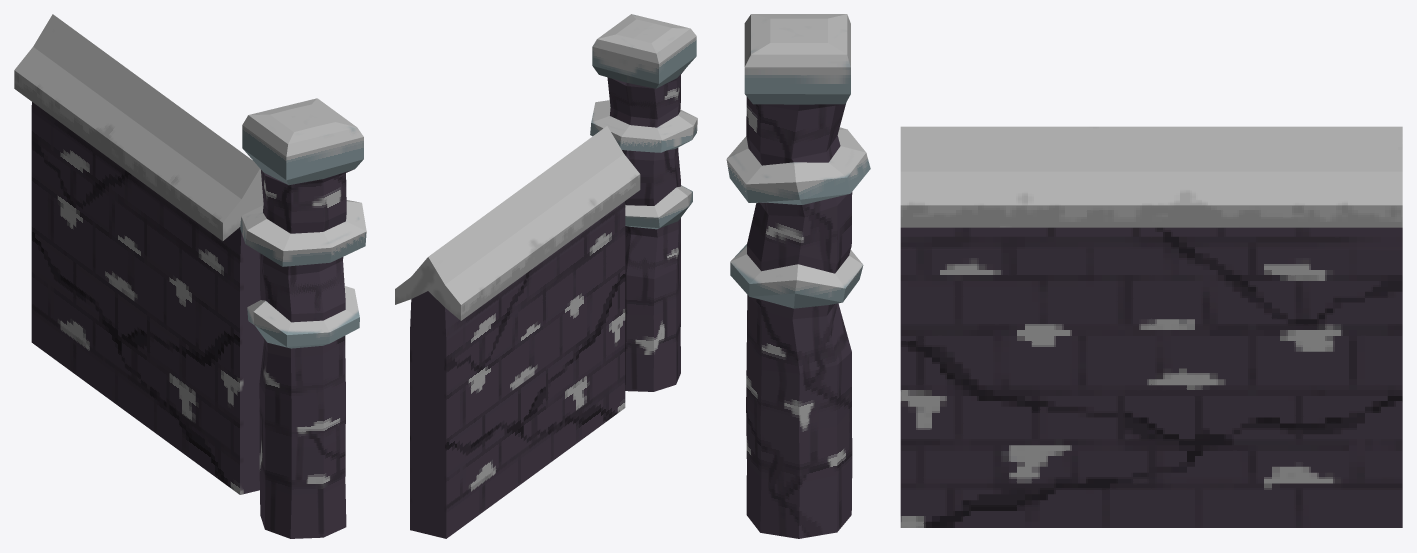
File: pillarandwall.glb
3 views of the same model, side by side, from view 1: azimuth 30°, elevation 25°; view 2: azimuth 150°, elevation 25°; view 3: azimuth 270°, elevation 25° (orthographic). The views are drawn at different scales.
Visible parts, largest first — view 1: wall, pillar; view 2: wall, pillar; view 3: wall, pillar.
Boxes of the visible parts, x1,y1,x2,y2 form: wall: (14, 14, 263, 494); pillar: (240, 98, 366, 538); wall: (395, 126, 640, 538); pillar: (590, 14, 697, 391); wall: (900, 126, 1402, 527); pillar: (726, 14, 870, 538).
Bounding box in the file's own units: 4.2 × 14.13 × 17.81.
Materials: 4 (4 with a texture image).
